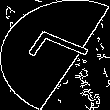L_SE: (17, 29, 93, 81)
